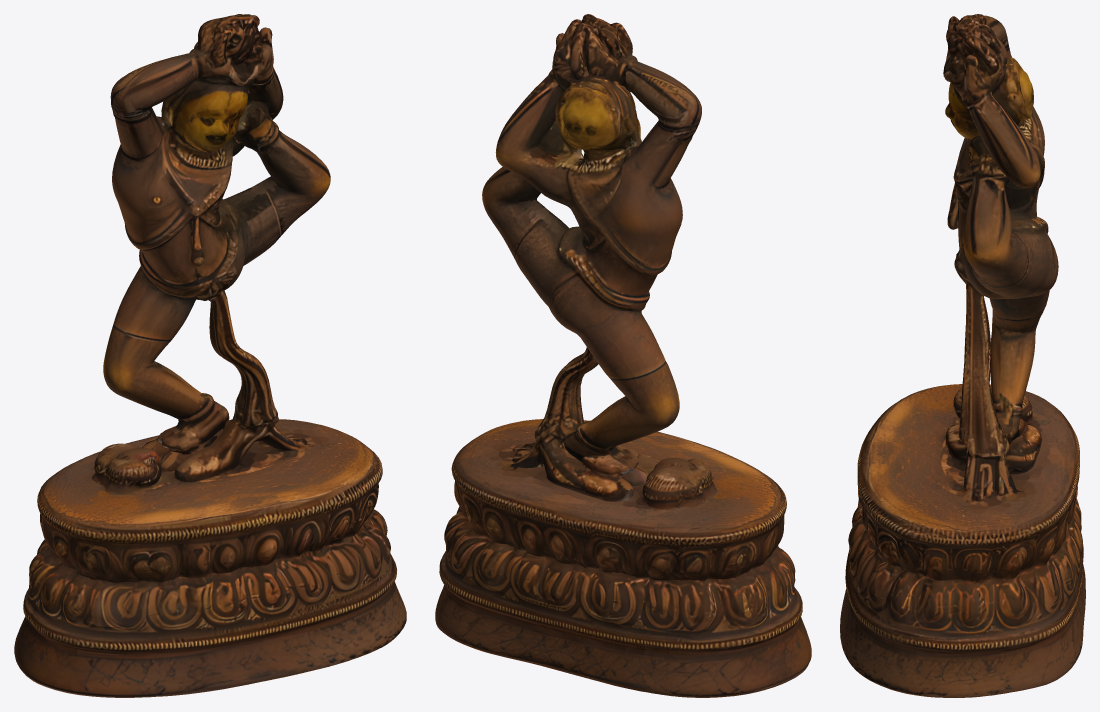
3 views of the same model, side by side, from view 1: azimuth 30°, elevation 25°; view 2: azimuth 150°, elevation 25°; view 3: azimuth 270°, elevation 25° (orthographic).
Visible parts, largest first — view 1: textured_mesh; view 2: textured_mesh; view 3: textured_mesh.
Part boxes in pixels (x1,y1,x2,y2): textured_mesh: (14,14,406,697); textured_mesh: (435,14,811,697); textured_mesh: (840,14,1085,697).
Size of the model in its own units: 1.21 by 1.99 by 0.7281.
Materials: 1 (1 with a texture image).
